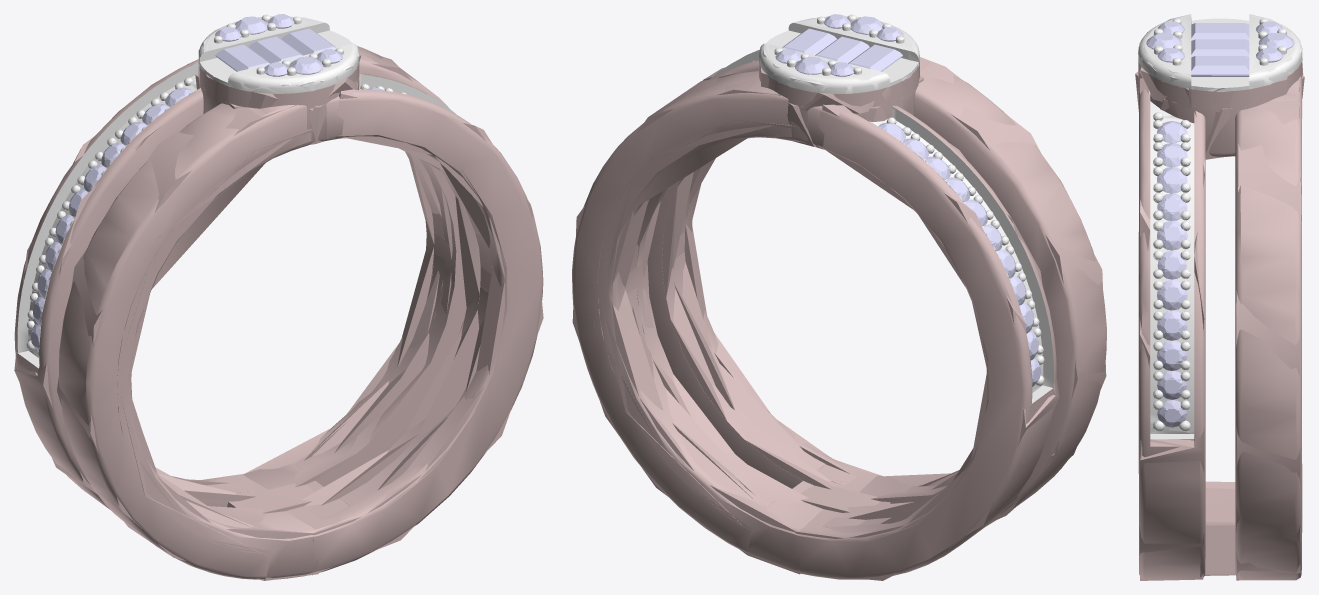
The model's file is DLR-D000677838.glb.
3 views of the same model, side by side, from view 1: azimuth 30°, elevation 25°; view 2: azimuth 150°, elevation 25°; view 3: azimuth 270°, elevation 25° (orthographic). The views are drawn at different scales.
Visible parts, largest first — view 1: highPolyMesh, lowPolyMesh; view 2: highPolyMesh, lowPolyMesh; view 3: highPolyMesh, lowPolyMesh.
Part boxes in pixels (bbox=[...]): highPolyMesh: bbox=[14, 14, 543, 579]; lowPolyMesh: bbox=[14, 14, 543, 580]; highPolyMesh: bbox=[572, 14, 1106, 579]; lowPolyMesh: bbox=[572, 14, 1106, 580]; highPolyMesh: bbox=[1138, 14, 1302, 580]; lowPolyMesh: bbox=[1135, 14, 1304, 580].
Size of the model in its own units: 0.0216 by 0.0228 by 0.00673.
